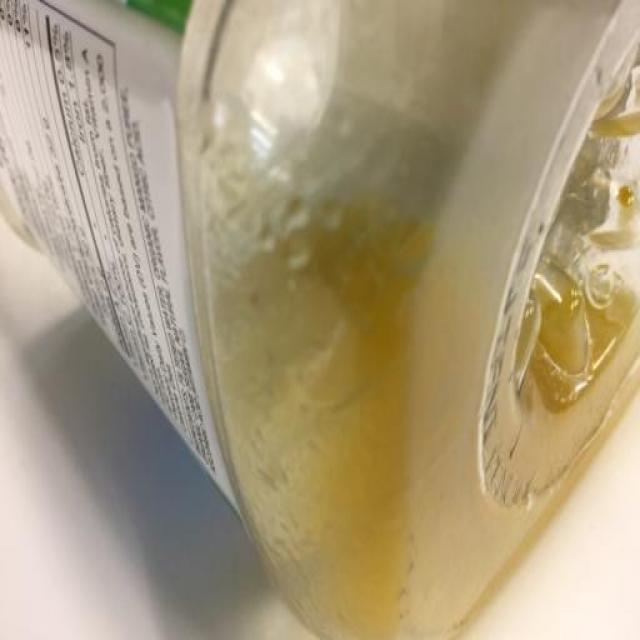plastic_bottle: (1, 2, 599, 572)
